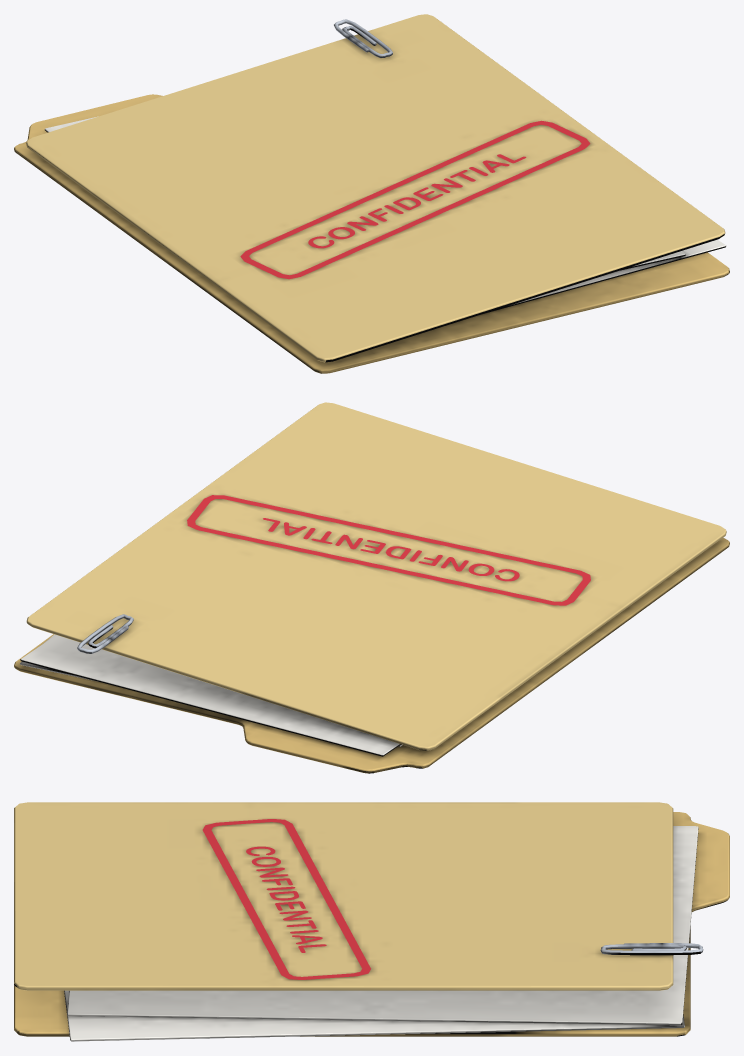
Rendered from folder.glb.
The picture shows the model from 3 angles, top to bottom: view 1: azimuth 30°, elevation 25°; view 2: azimuth 150°, elevation 25°; view 3: azimuth 270°, elevation 25°; orthographic projection. The views are drawn at different scales.
Parts seen in each view (by area): view 1: folder; view 2: folder; view 3: folder.
Boxes of the visible parts, x1,y1,x2,y2 form: folder: (14, 14, 729, 373); folder: (14, 402, 729, 773); folder: (14, 802, 729, 1041).
Size of the model in its own units: 0.2502 by 0.0246 by 0.328.
5 materials, 5 textured.
